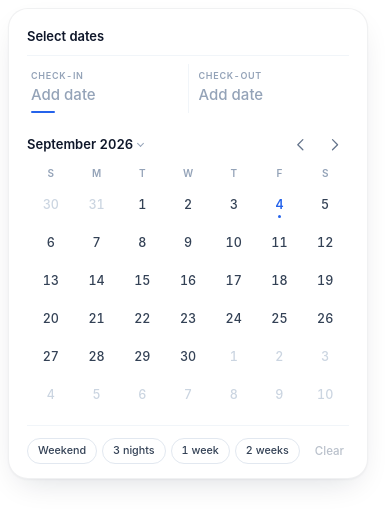
Test: DatePicker: selection › applies a preset range and marks the chip active
Click the button "1 week". click: click(200, 451)
box: [171,438,230,464]
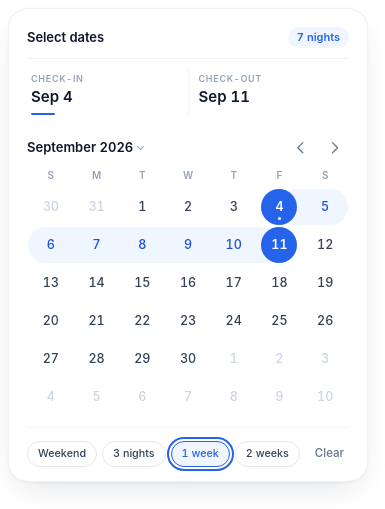
expect the text with class "dpng-header__badge" reads "7 nights": met, box [297,30,340,44]
Click the button "3 nights". click: click(134, 454)
box: [102,441,166,467]
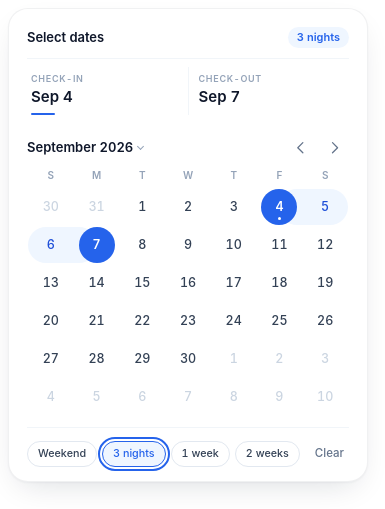
expect the text with class "dpng-header__badge" reads "3 nights": met, box [297,30,340,44]
